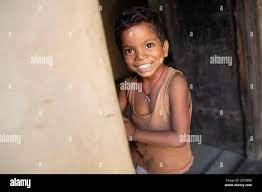Human: (100, 8, 200, 183)
